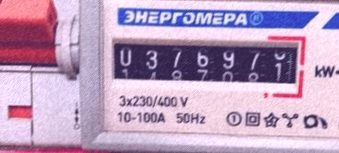0: (117, 45, 133, 66)
1: (273, 60, 284, 82)
3: (144, 47, 158, 70)
6: (196, 46, 209, 67)
7: (170, 44, 183, 68), (247, 47, 260, 70)
9: (221, 47, 234, 69)
screen: (104, 31, 308, 101)
